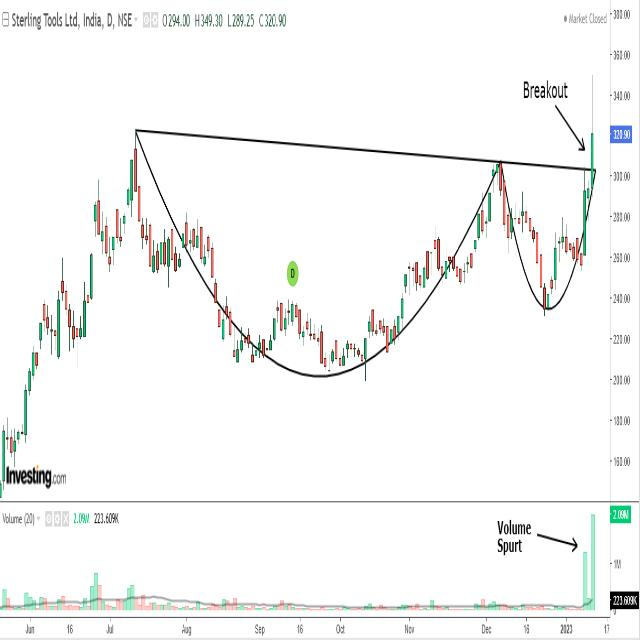Cup-and-handle: (130, 136, 602, 395)
